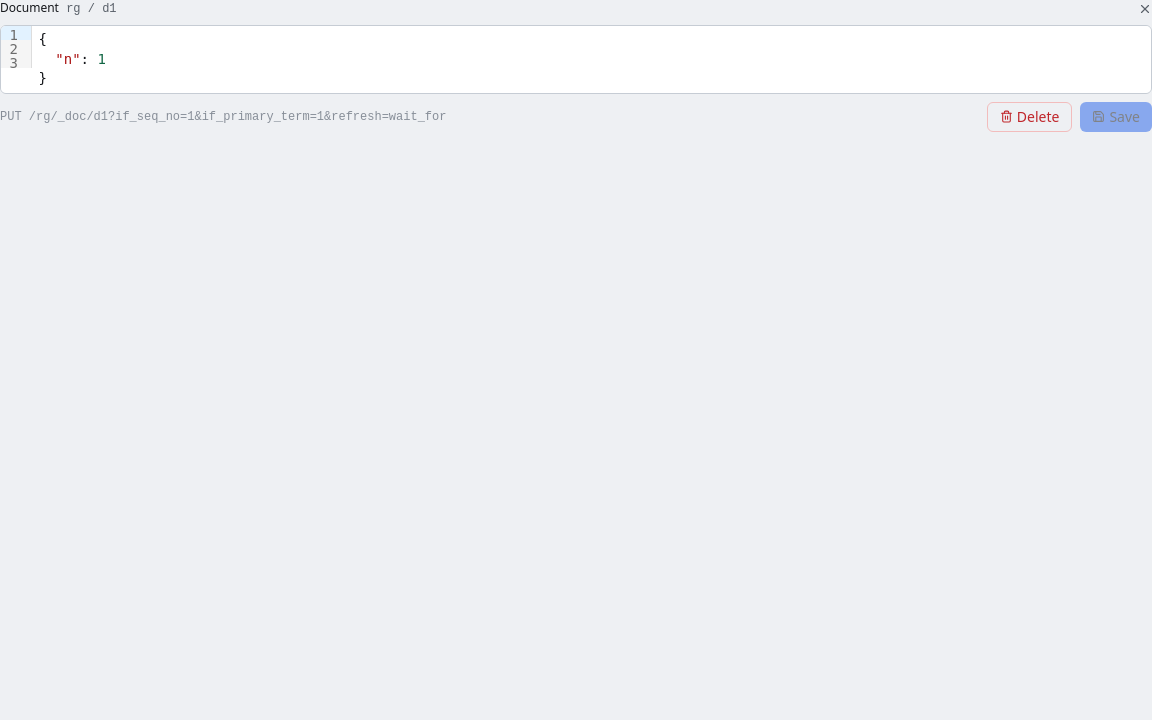
Test: EsDocumentEditor › 文档还在、只是版本变了：照旧说被改了
This screenshot has width=1152, height=720.
Step 1. Click the button "Delete" → click(1030, 117), box [987,102,1072,132]
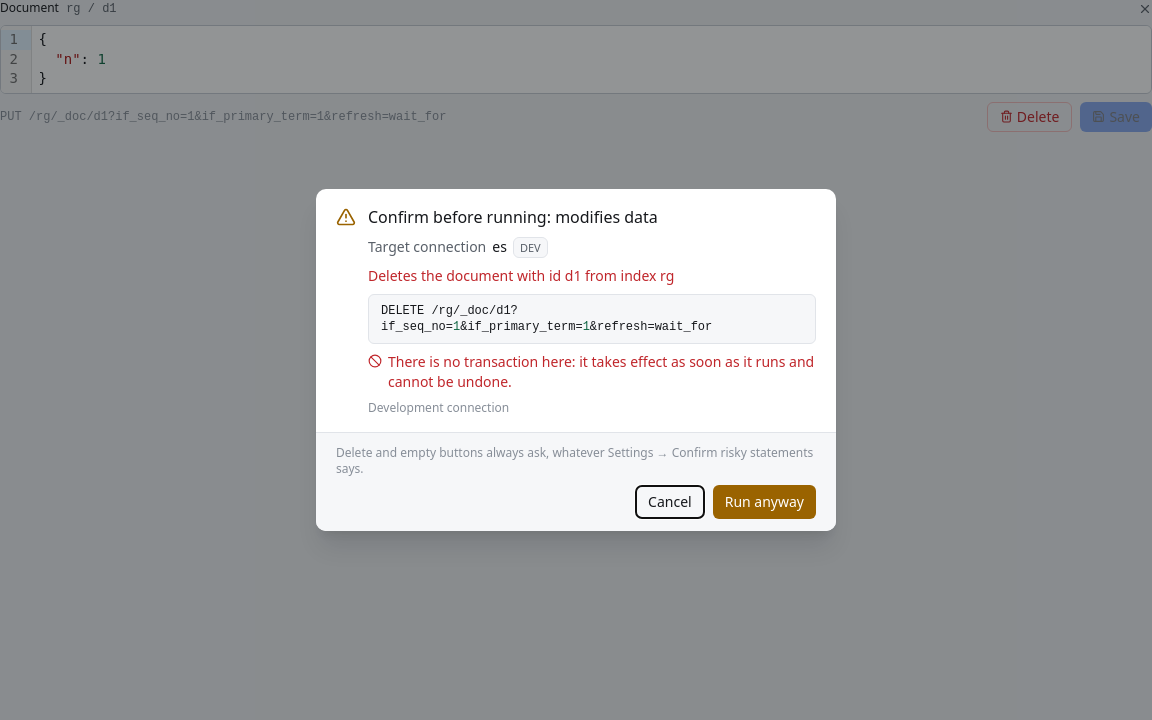
Step 2. Click the button "Run anyway" → click(764, 502), box [713,485,816,519]
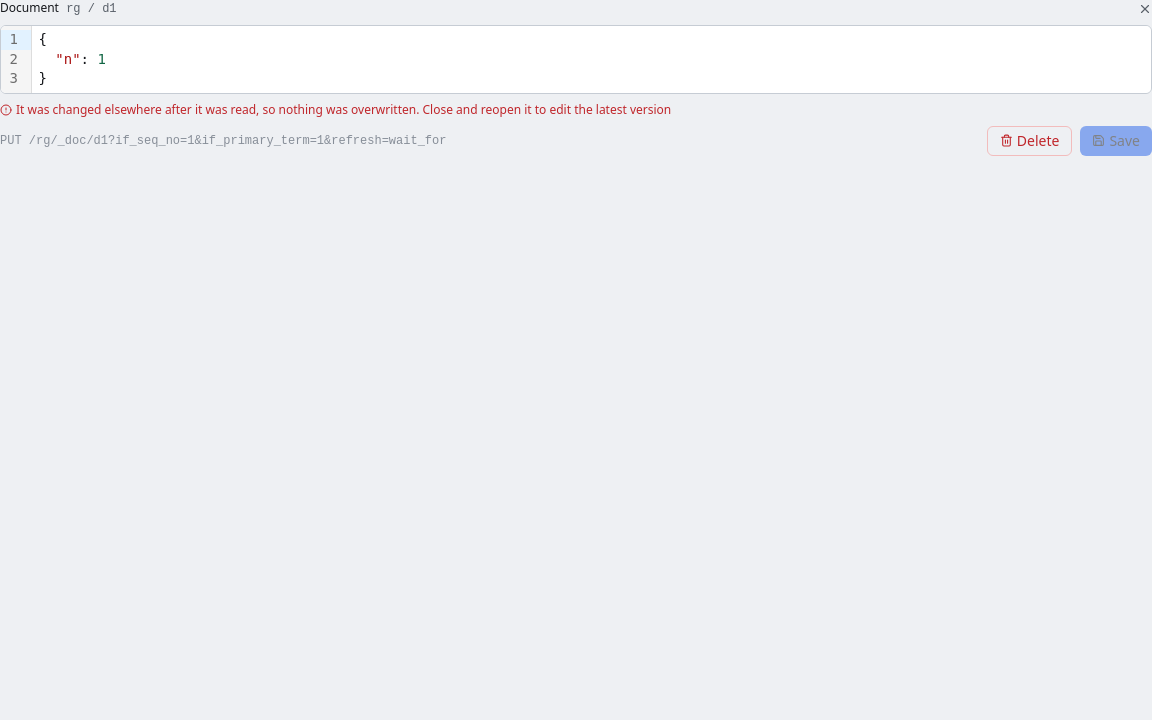
Expected: the text "changed elsewhere" is shown, [16,101,671,118]
